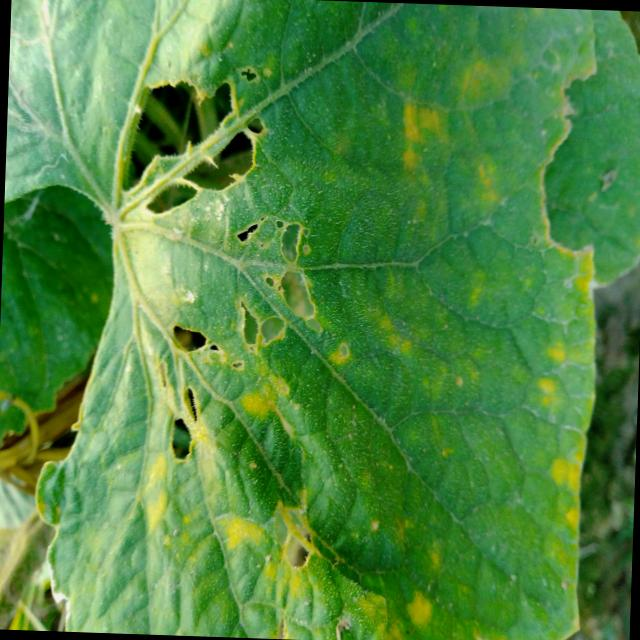cucumber_downy: (123, 0, 611, 640)
